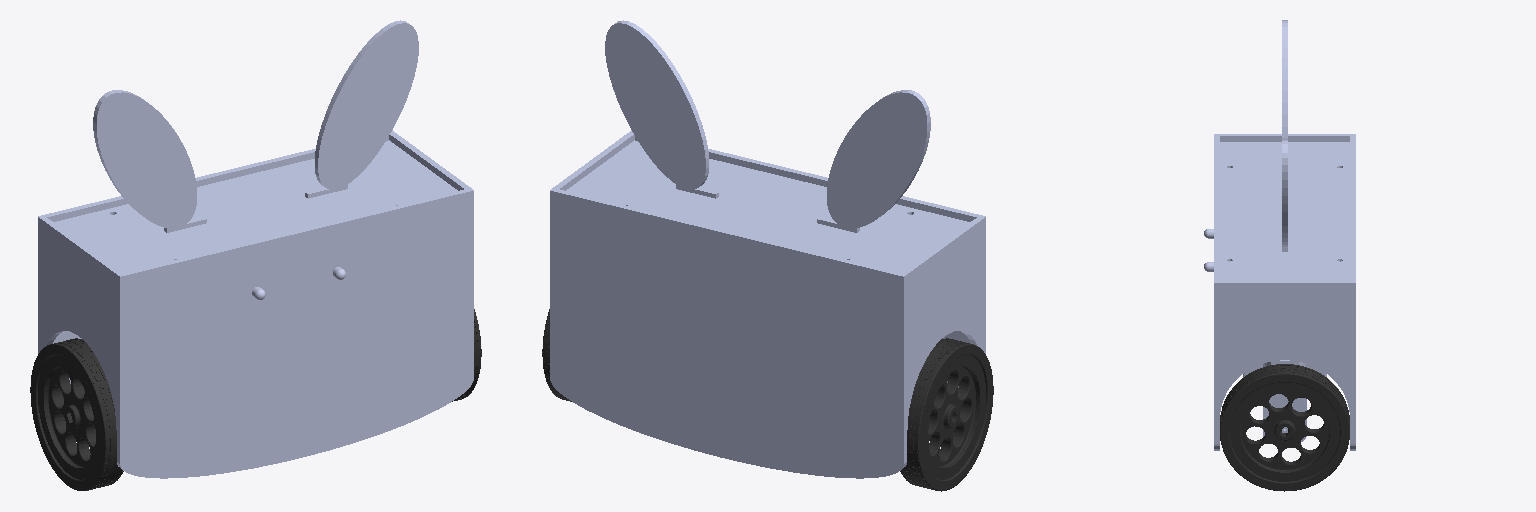
robot.urdf — self-balancing:
<?xml version="1.0" encoding="utf-8"?>
<!-- This URDF was automatically created by SolidWorks to URDF Exporter! Originally created by [author] ([email redacted]) 
     Commit Version: 1.5.1-0-g916b5db  Build Version: 1.5.7152.31018
     For more information, please see http://wiki.ros.org/sw_urdf_exporter -->
<robot
  name="self-balancing">
  <link
    name="base_link">
    <inertial>
      <origin
        xyz="0.055293 -0.08692 0.07539"
        rpy="0 0 0" />
      <mass
        value="0.28151" />
      <inertia
        ixx="0.00015759"
        ixy="4.101E-08"
        ixz="-3.4429E-07"
        iyy="0.0005263"
        iyz="4.1853E-09"
        izz="0.00044124" />
    </inertial>
    <visual>
      <origin
        xyz="0 0 0"
        rpy="0 0 0" />
      <geometry>
        <mesh
          filename="package://self-balancing/meshes/base_link.STL" />
      </geometry>
      <material
        name="">
        <color
          rgba="0.79216 0.81961 0.93333 1" />
      </material>
    </visual>
    <collision>
      <origin
        xyz="0 0 0"
        rpy="0 0 0" />
      <geometry>
        <mesh
          filename="package://self-balancing/meshes/base_link.STL" />
      </geometry>
    </collision>
  </link>
  <link
    name="left_link">
    <inertial>
      <origin
        xyz="2.6819E-06 -5.5483E-09 0.0060012"
        rpy="0 0 0" />
      <mass
        value="0.023985" />
      <inertia
        ixx="8.3512E-06"
        ixy="-3.5545E-13"
        ixz="-6.1081E-11"
        iyy="8.3506E-06"
        iyz="-3.3731E-13"
        izz="1.6278E-05" />
    </inertial>
    <visual>
      <origin
        xyz="0 0 0"
        rpy="0 0 0" />
      <geometry>
        <mesh
          filename="package://self-balancing/meshes/left_link.STL" />
      </geometry>
      <material
        name="">
        <color
          rgba="0.25098 0.25098 0.25098 1" />
      </material>
    </visual>
    <collision>
      <origin
        xyz="0 0 0"
        rpy="0 0 0" />
      <geometry>
        <mesh
          filename="package://self-balancing/meshes/left_link.STL" />
      </geometry>
    </collision>
  </link>
  <joint
    name="left_joint"
    type="revolute">
    <origin
      xyz="0.13666 -0.086877 0.039775"
      rpy="-1.5708 0.99328 -1.5708" />
    <parent
      link="base_link" />
    <child
      link="left_link" />
    <axis
      xyz="0 0 -1" />
    <limit
      lower="0"
      upper="0"
      effort="0"
      velocity="0" />
  </joint>
  <link
    name="right_link">
    <inertial>
      <origin
        xyz="2.6819E-06 -5.5483E-09 -0.0059988"
        rpy="0 0 0" />
      <mass
        value="0.023985" />
      <inertia
        ixx="8.3512E-06"
        ixy="-3.5545E-13"
        ixz="-6.1081E-11"
        iyy="8.3506E-06"
        iyz="-3.3731E-13"
        izz="1.6278E-05" />
    </inertial>
    <visual>
      <origin
        xyz="0 0 0"
        rpy="0 0 0" />
      <geometry>
        <mesh
          filename="package://self-balancing/meshes/right_link.STL" />
      </geometry>
      <material
        name="">
        <color
          rgba="0.25098 0.25098 0.25098 1" />
      </material>
    </visual>
    <collision>
      <origin
        xyz="0 0 0"
        rpy="0 0 0" />
      <geometry>
        <mesh
          filename="package://self-balancing/meshes/right_link.STL" />
      </geometry>
    </collision>
  </link>
  <joint
    name="right_link"
    type="revolute">
    <origin
      xyz="-0.026342 -0.086877 0.039775"
      rpy="-1.5708 0.99328 -1.5708" />
    <parent
      link="base_link" />
    <child
      link="right_link" />
    <axis
      xyz="0 0 1" />
    <limit
      lower="0"
      upper="0"
      effort="0"
      velocity="0" />
  </joint>
</robot>

--- Render facts (derived) ---
The picture shows the robot from 3 angles, left to right: view 1: azimuth 30°, elevation 25°; view 2: azimuth 150°, elevation 25°; view 3: azimuth 270°, elevation 25°; orthographic projection.
Robot: self-balancing — 3 links, 2 joints (2 revolute); root link base_link; default pose: every joint at zero.
Visible links, largest first — view 1: base_link, right_link, left_link; view 2: base_link, right_link, left_link; view 3: base_link, left_link.
Link boxes in pixels (x1,y1,x2,y2): base_link: [38, 20, 473, 478]; right_link: [30, 338, 123, 490]; left_link: [452, 309, 481, 401]; base_link: [550, 20, 985, 478]; right_link: [900, 338, 993, 491]; left_link: [542, 309, 571, 401]; base_link: [1204, 20, 1355, 450]; left_link: [1220, 364, 1349, 491].
Bounding box of the posed robot: 0.187 × 0.076 × 0.1819 m (x, y, z).
3 mesh visuals loaded from 3 distinct referenced files (3 binary STL).